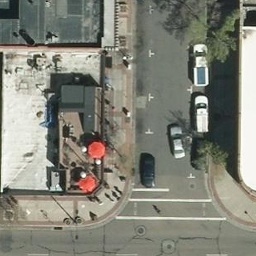car: (193, 44, 211, 87), (169, 126, 187, 161), (194, 98, 209, 135), (140, 155, 156, 186)
